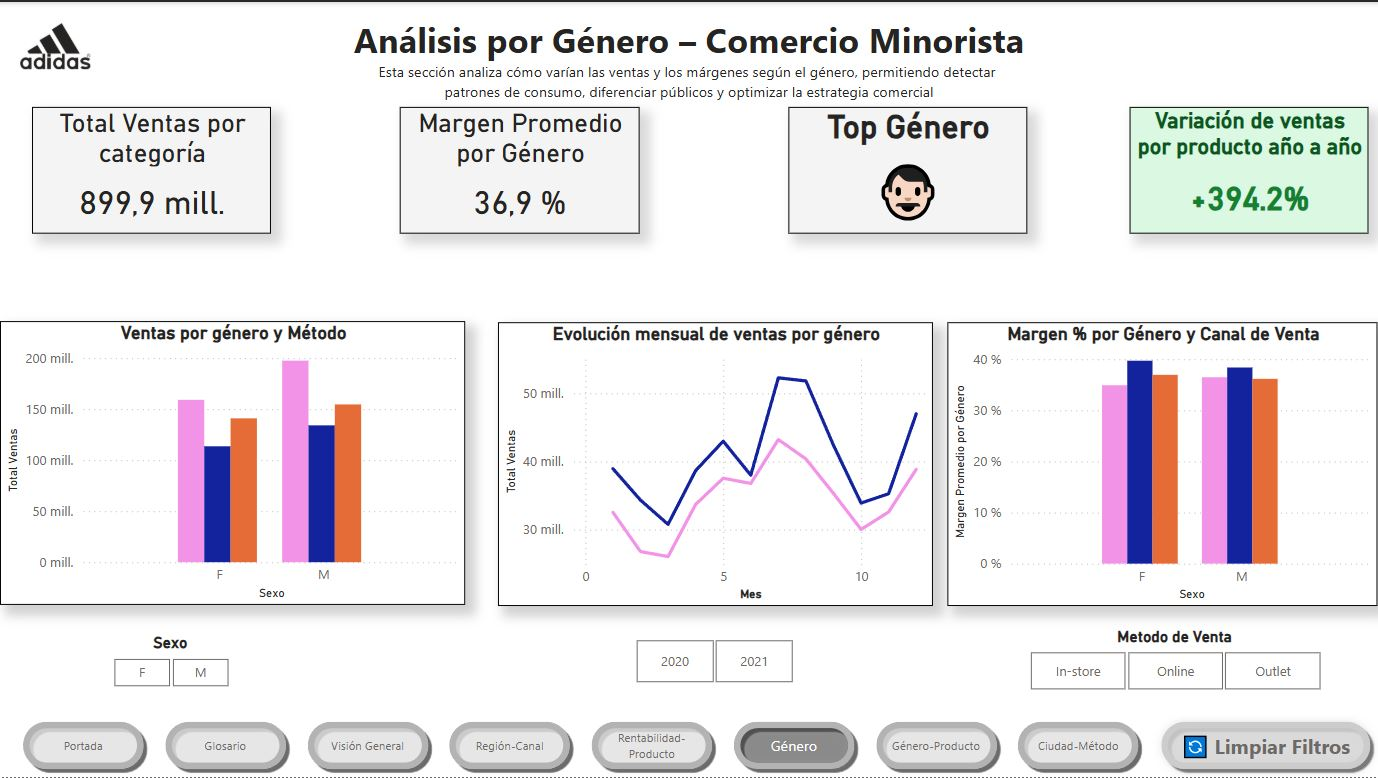

The dashboard page shown, as its layout file describes it:
{"tool":"powerbi","page":{"name":"Género","canvas":[1280,720],"ordinal":5},"visuals":[{"type":"image","box":[13.3,7.2,75.9,68.7],"z":0},{"type":"actionButton","box":[1070,660,210,60],"z":1000},{"type":"textbox","box":[287.1,7.2,705.5,90.2],"z":2000},{"type":"card","title":"Top Género","fields":{"Values":["Medidas.Top Género Icono"]},"box":[732.1,97.4,221.5,117.9],"z":3000},{"type":"card","title":"Total Ventas por categoría","fields":{"Values":["Medidas.Total Ventas"]},"box":[30,97.5,221.9,117.9],"z":4000},{"type":"card","title":"Margen Promedio por Género","fields":{"Values":["Medidas.Margen Promedio por Género"]},"box":[371.2,97.4,222.5,117.9],"z":5000},{"type":"card","title":"Variación de ventas por producto año a año","fields":{"Values":["Medidas.Variación YoY Texto"]},"box":[1049.3,97.5,221.9,117.9],"z":6000},{"type":"slicer","title":"Sexo","fields":{"Values":["Sexo.Sexo"]},"box":[79.8,586.9,156.4,51.8],"z":7000},{"type":"clusteredColumnChart","title":"Ventas por género y Método ","fields":{"Y":["Medidas.Total Ventas"],"Category":["Sexo.Sexo"],"Series":["Metodo de Venta.Metodo de Venta"]},"box":[0,296.7,432.2,263.3],"z":8000},{"type":"lineChart","title":"Evolución mensual de ventas por género","fields":{"Category":["Calendario.Mes_Num"],"Y":["Medidas.Total Ventas"],"Series":["Sexo.Sexo"]},"box":[461.9,296.9,404.1,263.7],"z":9000},{"type":"slicer","fields":{"Values":["Calendario.Año"]},"box":[565.4,585.9,195.3,52.9],"z":10000},{"type":"slicer","title":"Metodo de Venta","fields":{"Values":["Metodo de Venta.Metodo de Venta"]},"box":[931.1,580.5,319.4,64.7],"z":11000},{"type":"clusteredColumnChart","title":"Margen % por Género y Canal de Venta","fields":{"Category":["Sexo.Sexo"],"Y":["Medidas.Margen Promedio por Género"],"Series":["Metodo de Venta.Metodo de Venta"]},"box":[879.9,296.9,399.8,263.7],"z":12000},{"type":"pageNavigator","box":[13.8,660,1056.2,60],"z":13000}]}

Visuals, with their boxes in screenshot pixels (x1, y1, x2, y2), scaled from the page's 1280x720 canvas onto the 1378x778 screenshot:
image: (14,8,96,82)
actionButton: (1152,713,1377,777)
textbox: (309,8,1069,105)
"Top Género" card: (788,105,1027,233)
"Total Ventas por categoría" card: (32,105,271,233)
"Margen Promedio por Género" card: (400,105,639,233)
"Variación de ventas por producto año a año" card: (1130,105,1369,233)
"Sexo" slicer: (86,634,254,690)
"Ventas por género y Método " clusteredColumnChart: (0,321,465,605)
"Evolución mensual de ventas por género" lineChart: (497,321,932,606)
slicer - Calendario.Año: (609,633,819,690)
"Metodo de Venta" slicer: (1002,627,1346,697)
"Margen % por Género y Canal de Venta" clusteredColumnChart: (947,321,1377,606)
pageNavigator: (15,713,1152,777)
